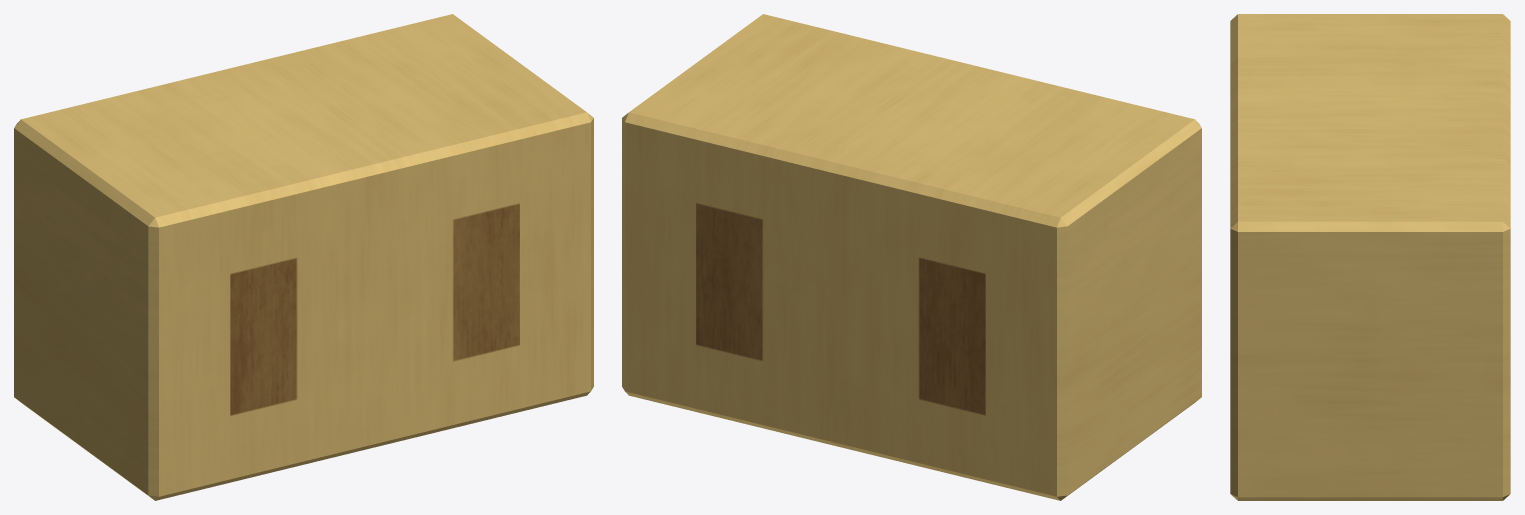
The model's file is houseblock2-1.fbx.
3 views of the same model, side by side, from view 1: azimuth 30°, elevation 25°; view 2: azimuth 150°, elevation 25°; view 3: azimuth 270°, elevation 25° (orthographic).
Visible parts, largest first — view 1: houseblock2; view 2: houseblock2; view 3: houseblock2.
Boxes of the visible parts, x1=… form: houseblock2: x1=14, y1=14, x2=593, y2=500; houseblock2: x1=622, y1=14, x2=1201, y2=500; houseblock2: x1=1230, y1=14, x2=1510, y2=500.
Bounding box in the file's own units: 1.78 × 1.08 × 0.9853.
